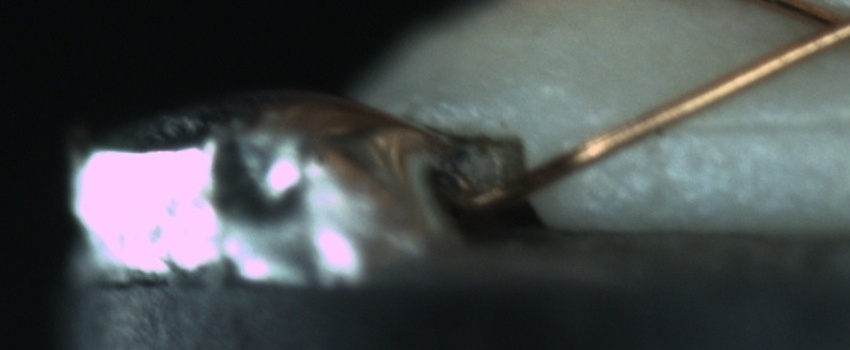CL: (793, 1, 850, 58)
DL: (668, 90, 850, 159)
